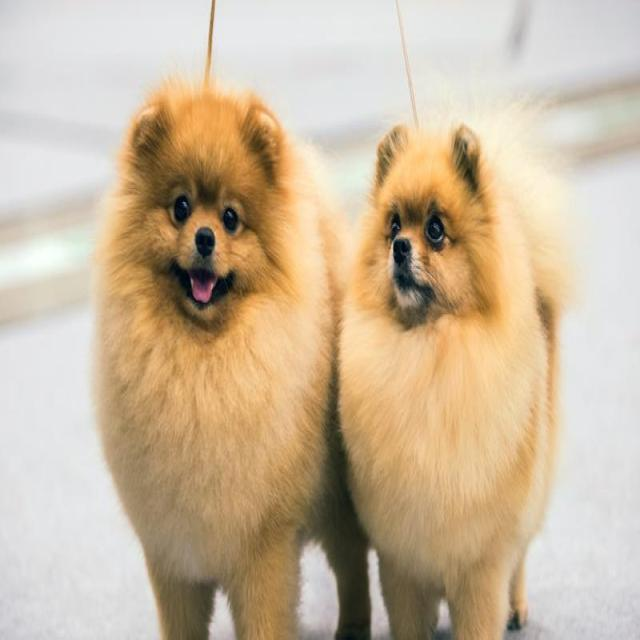dog: (91, 43, 595, 640)
